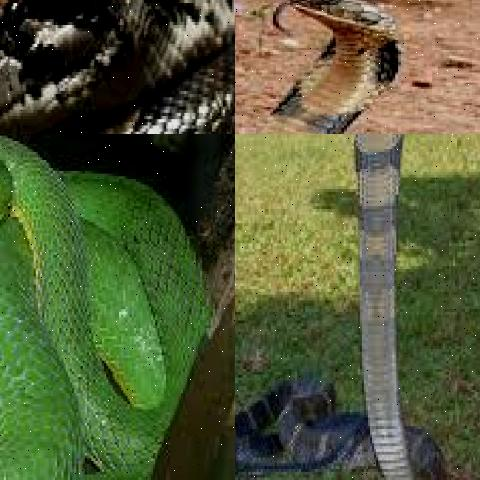snake: (235, 134, 455, 480), (0, 134, 216, 480), (235, 0, 480, 134), (0, 0, 235, 134)
